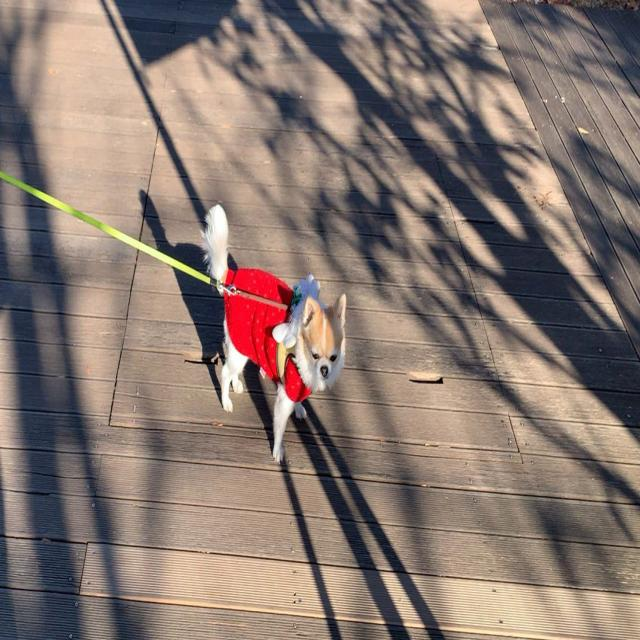Dog: (200, 203, 348, 464)
